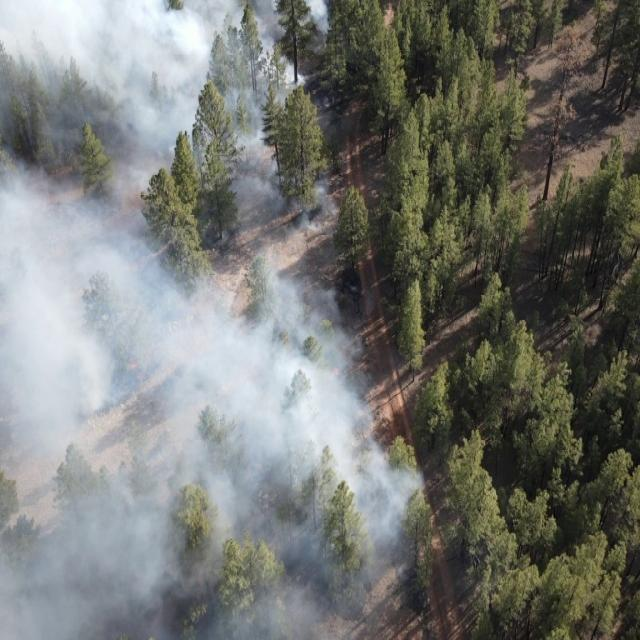fire: (127, 357, 142, 372), (331, 365, 342, 377)
smoke: (0, 0, 349, 640), (349, 321, 424, 640)
